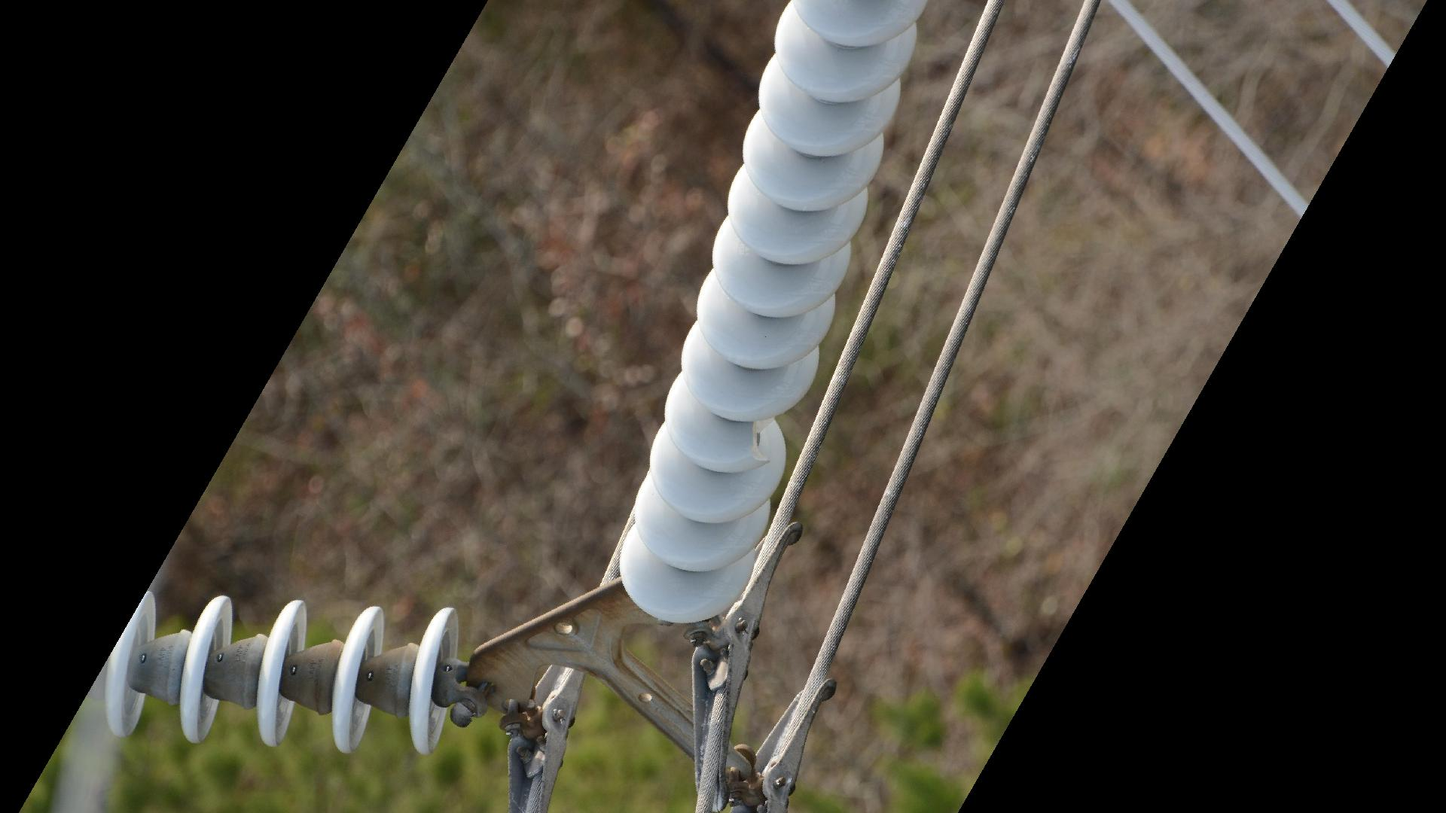insulator: (613, 1, 932, 634), (96, 583, 477, 762)
insulator_breakage: (740, 413, 786, 473)
